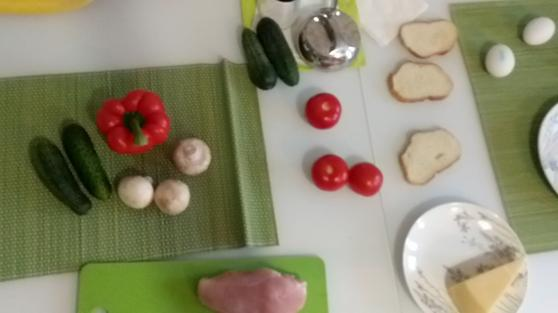champignon: (171, 136, 214, 174), (117, 174, 156, 209), (154, 178, 190, 215)
cheese: (452, 256, 528, 313)
chicken_fillet: (196, 268, 311, 313)
cucumber: (30, 137, 93, 214), (63, 122, 111, 201), (258, 15, 300, 83), (241, 28, 274, 88)
egg: (522, 15, 554, 47), (485, 44, 515, 77)
pepper: (96, 90, 168, 154)
tomato: (304, 90, 340, 130), (311, 154, 349, 191), (347, 160, 381, 196)
white_bread: (400, 126, 464, 186), (387, 58, 454, 103), (399, 18, 460, 55)
